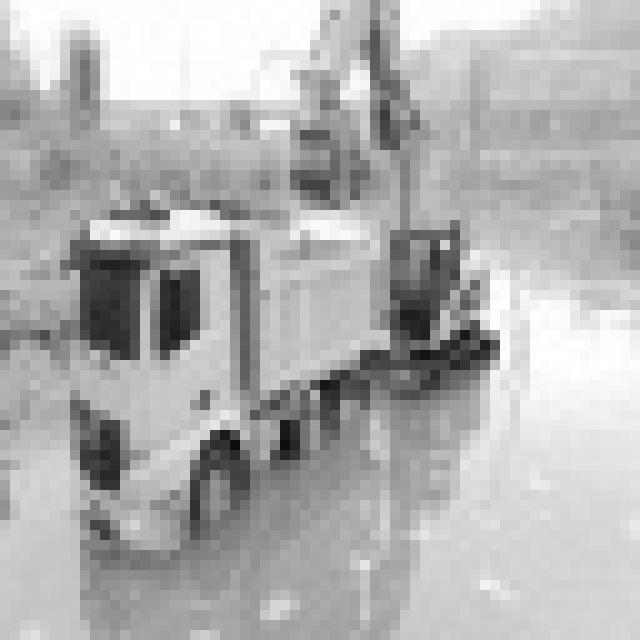trucks: (46, 179, 514, 561)
